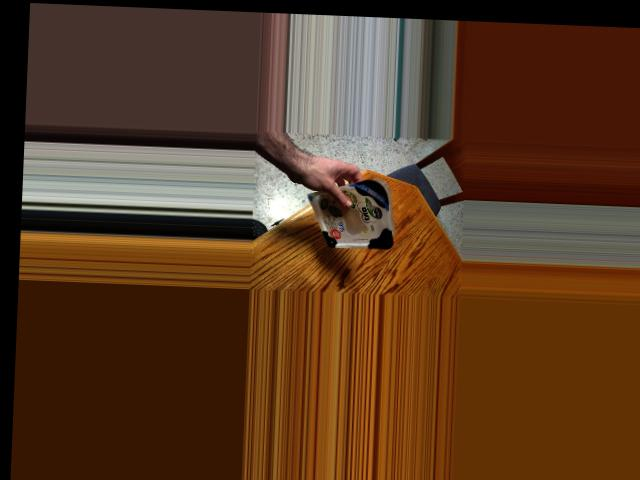cheese: (312, 188, 397, 243)
